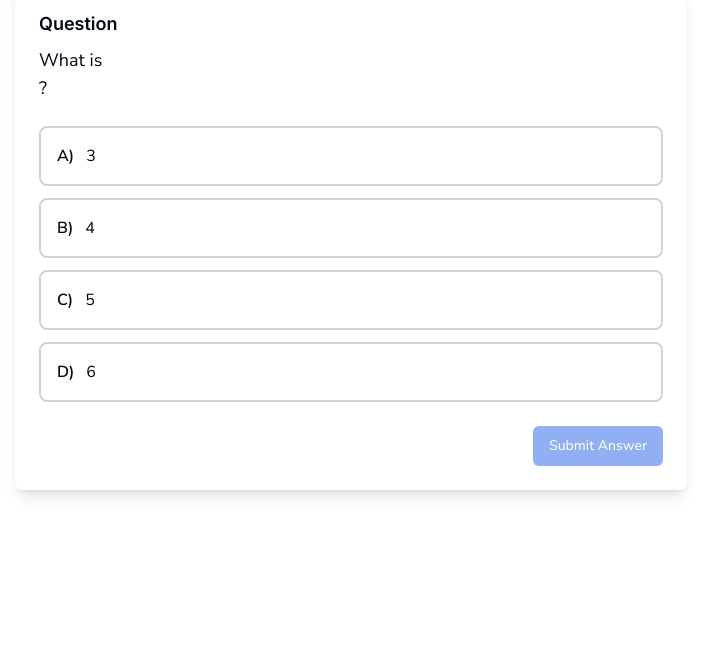
Test: QuestionCard › Multiple Choice Questions › disables choices after submission
The width and height of the screenshot is (703, 664).
Click the button "B) 4".
click(62, 228)  # box left=39, top=198, right=663, bottom=258
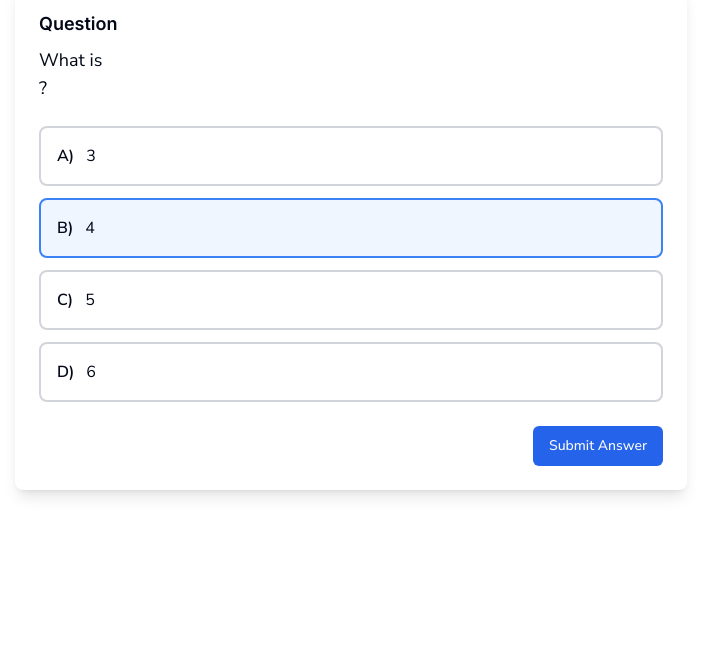
Click the button "Submit Answer".
click(598, 446)  # box left=533, top=426, right=663, bottom=466
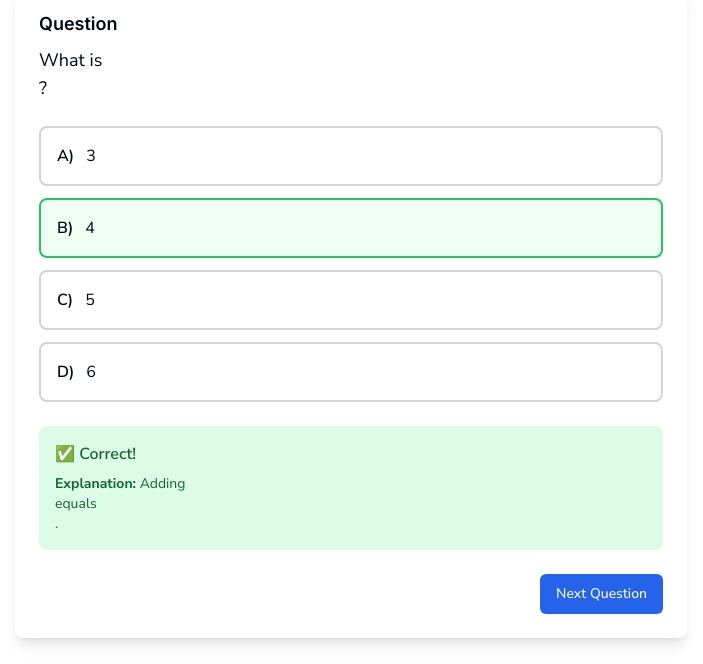
Expected: the button "A) 3" is disabled, left=39, top=126, right=663, bottom=186
Now the button "B) 4" is disabled, box left=39, top=198, right=663, bottom=258
